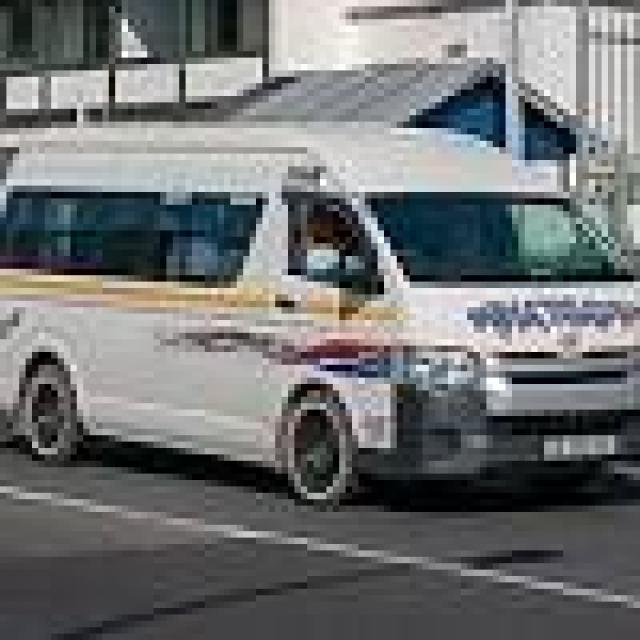MiniBus taxi: (6, 96, 634, 499)
